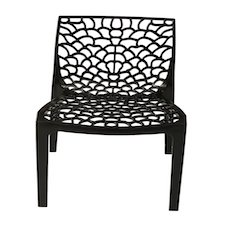chair: (30, 0, 200, 214)
